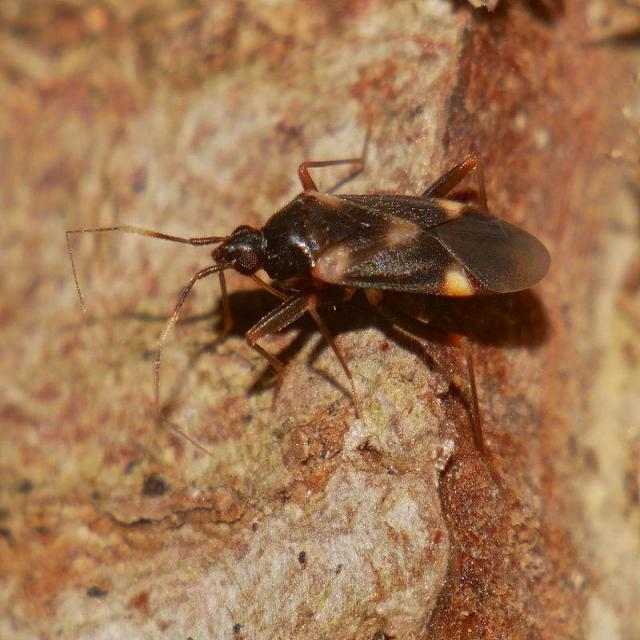Miridae-Adult-: (59, 112, 558, 480)
